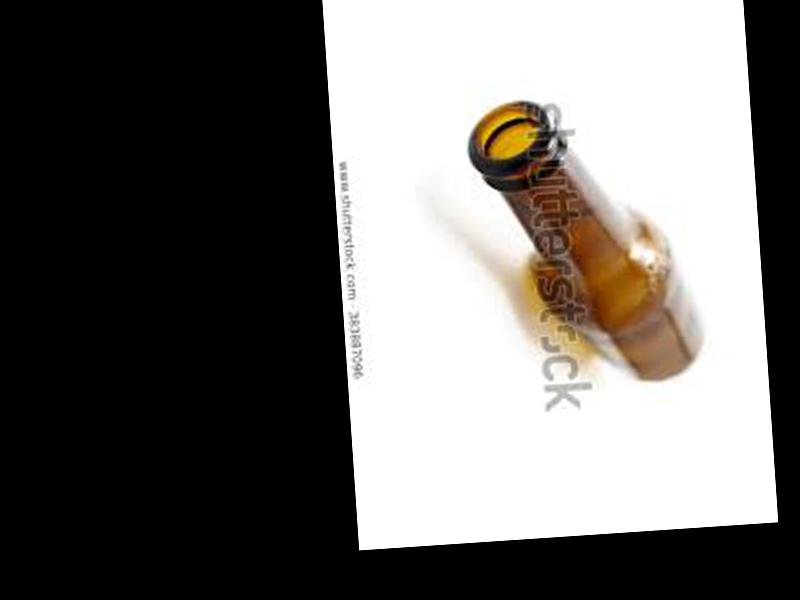Beer: (463, 89, 705, 393)
